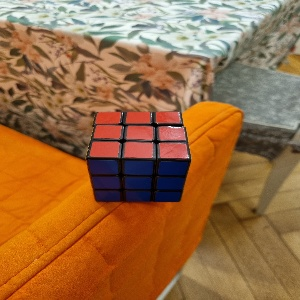cube: (87, 111, 192, 202)
